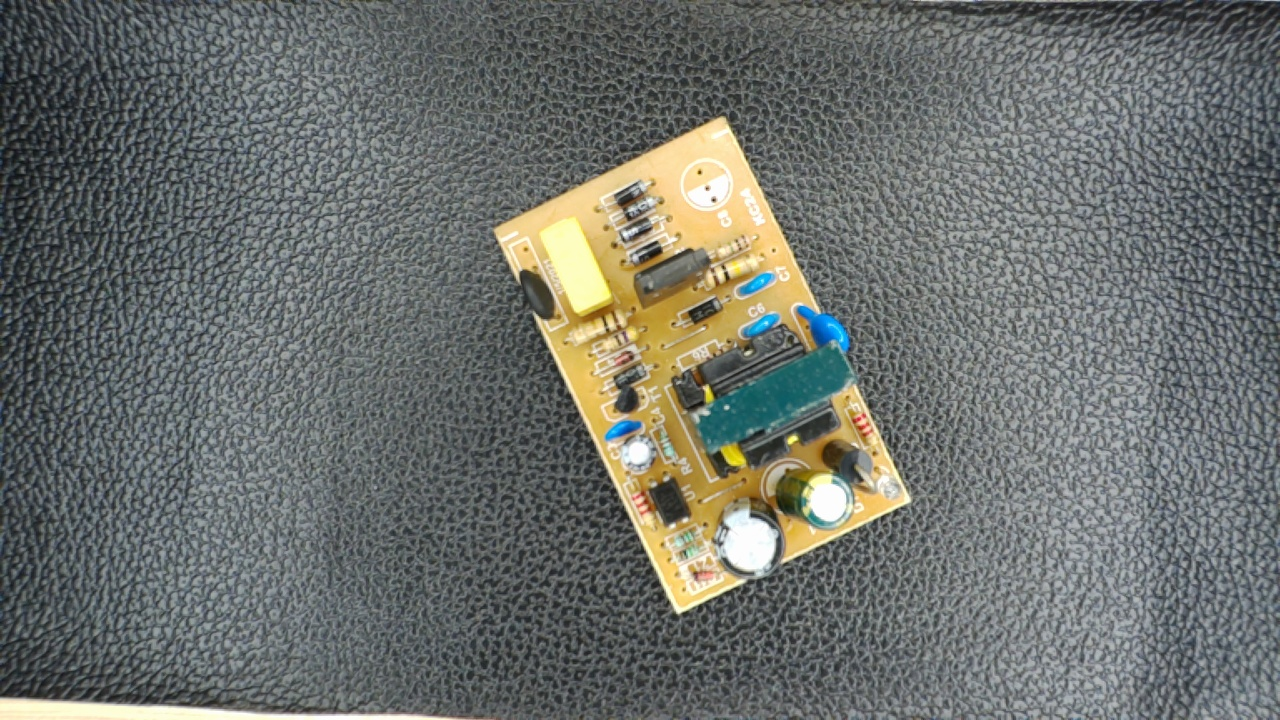fuse: (513, 261, 560, 326)
mov: (788, 300, 854, 357)
optocoupler: (644, 474, 696, 530)
